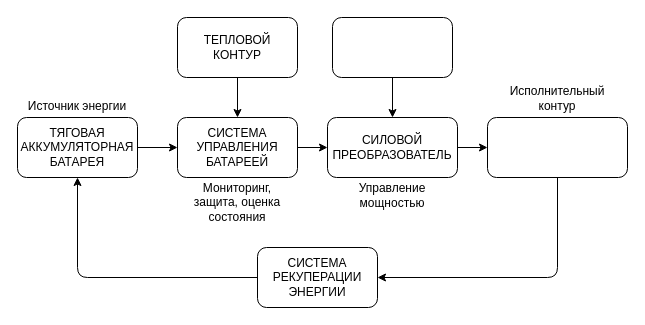
Image size: 645x325. Some labels were removed from this diagram. Here are the shapes that lost their labels. From the top down, the centre of each, then its label:
At [392,47]: "БОРТОВАЯ СЕТЬ И НАГРУЗКА".
At [557,147]: "ТЯГОВЫЙ ЭЛЕКТРОДВИГАТЕЛЬ".
